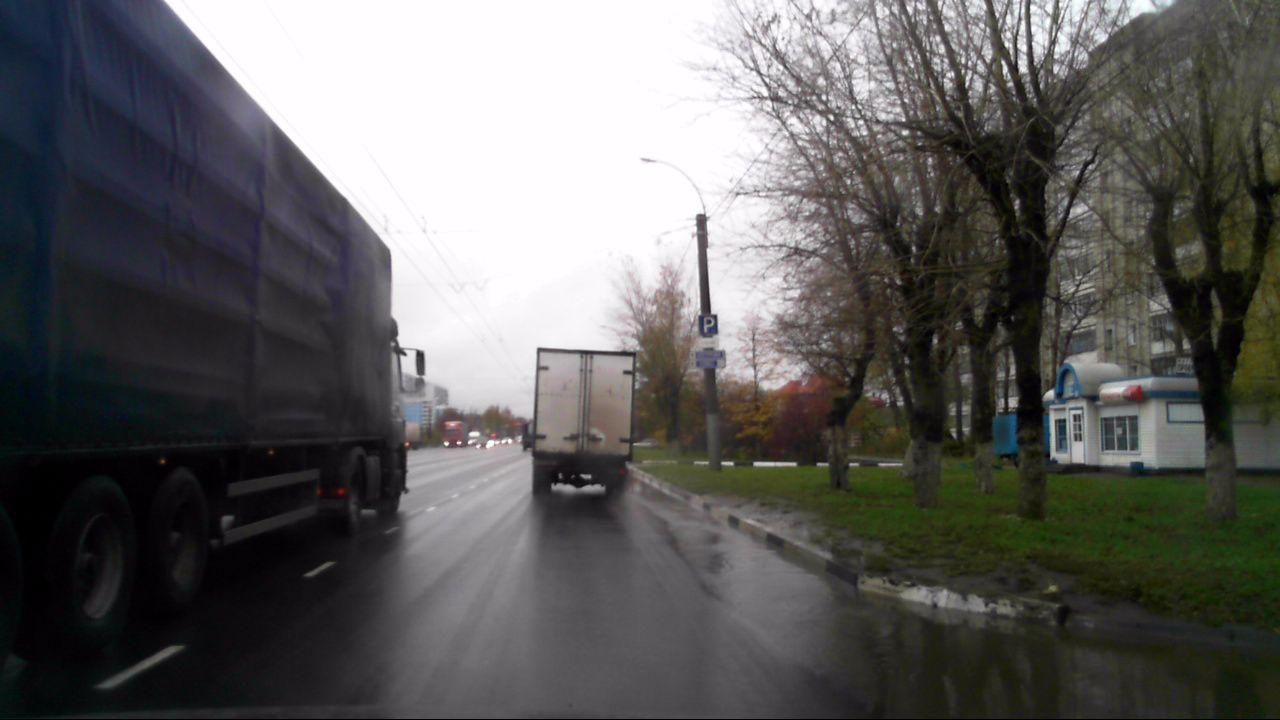6_10_1: (689, 350, 727, 370)
6_4: (698, 314, 718, 336)
8_8: (694, 336, 720, 349)
